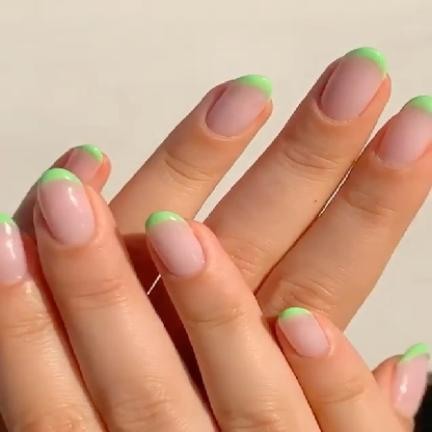Nail: (319, 46, 387, 121), (37, 167, 96, 246), (205, 74, 273, 137), (145, 210, 205, 276), (378, 95, 431, 169), (390, 342, 431, 417), (277, 308, 328, 358), (0, 212, 27, 286), (63, 144, 102, 185)
